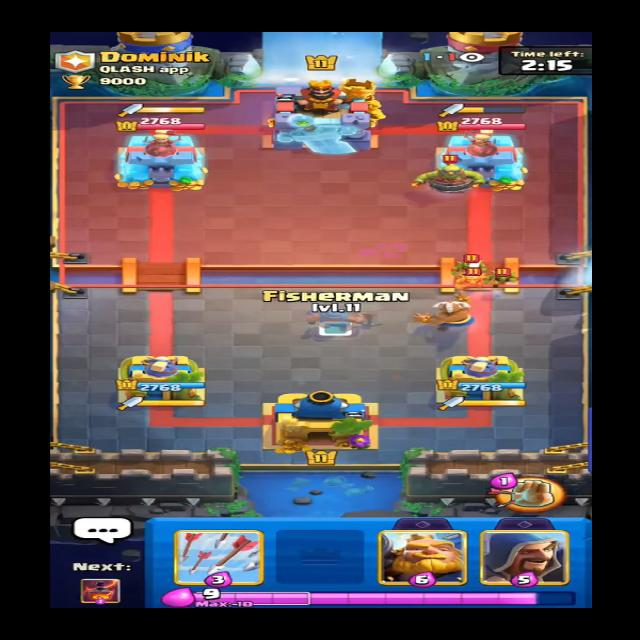Goblin: (455, 265, 486, 285), (489, 264, 516, 286), (456, 256, 487, 273)
Goblindemolisher: (416, 156, 485, 194)
